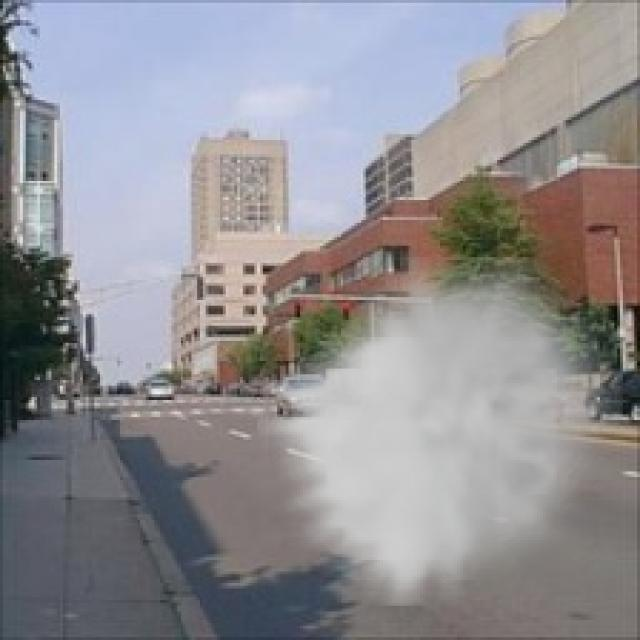smoke: (257, 257, 623, 606)
